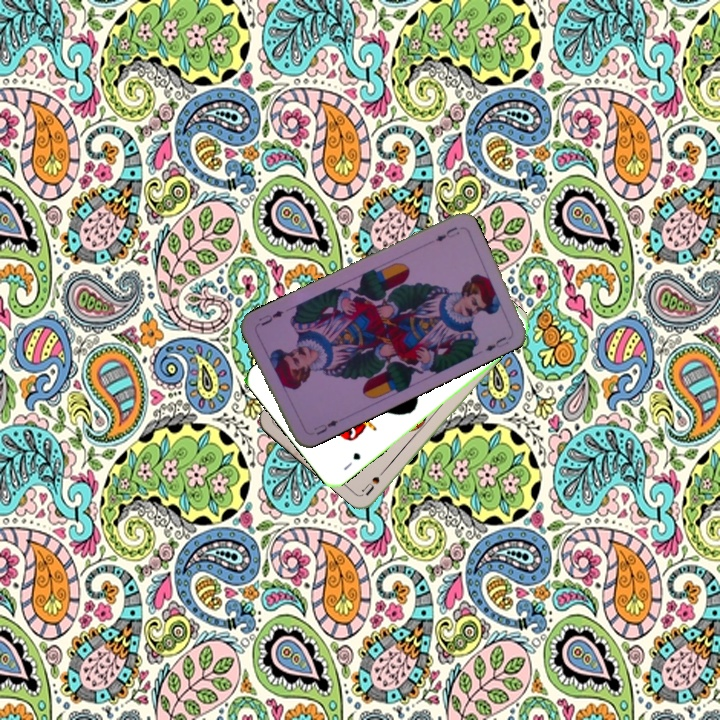EU: (431, 222, 462, 244), (310, 416, 341, 437)
GU: (340, 448, 363, 473)
SU: (359, 462, 391, 498)
